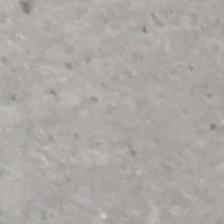Non_Crack: (5, 9, 219, 215)
